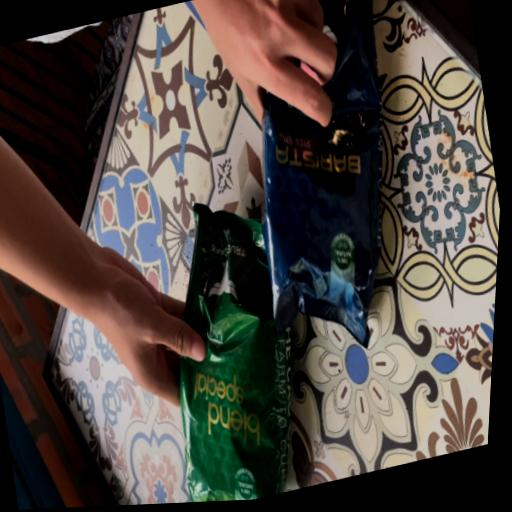cafe_hat: (262, 0, 384, 346)
cafe_xay: (180, 203, 291, 502), (180, 204, 291, 502)
